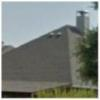chimneys: (75, 9, 90, 34)
